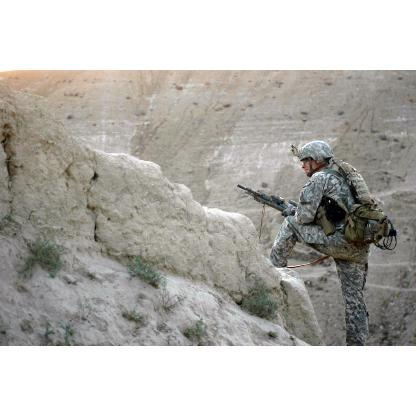gun: (248, 183, 332, 257)
